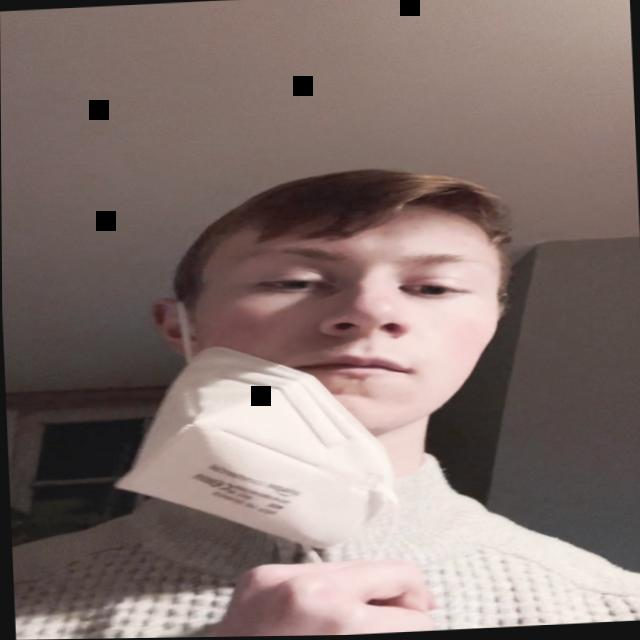NO-Mask: (171, 198, 506, 450)
